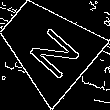N_NW: (16, 14, 79, 78)
